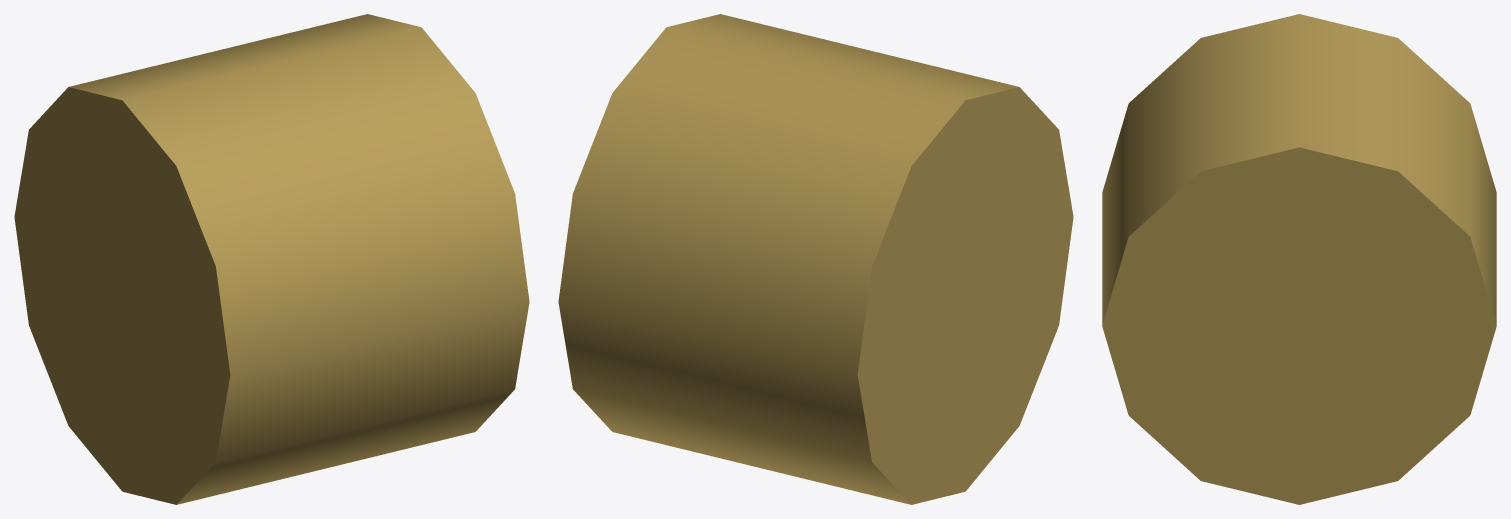
Rendered from toaster_hay_bale.glb.
3 renders of one model, left to right at view 1: azimuth 30°, elevation 25°; view 2: azimuth 150°, elevation 25°; view 3: azimuth 270°, elevation 25°, orthographic. The views are drawn at different scales.
Visible parts, largest first — view 1: toaster_hay_bale_roll; view 2: toaster_hay_bale_roll; view 3: toaster_hay_bale_roll.
Boxes of the visible parts, bbox=[...] form: toaster_hay_bale_roll: bbox=[14, 14, 529, 504]; toaster_hay_bale_roll: bbox=[558, 14, 1073, 504]; toaster_hay_bale_roll: bbox=[1102, 14, 1496, 504].
Size of the model in its own units: 1.2 by 1.5 by 1.5.
